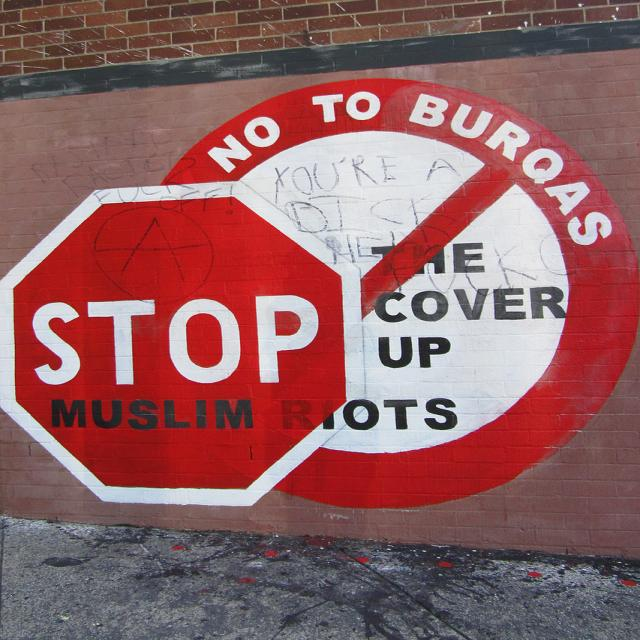Stop-sign: (0, 179, 367, 508)
